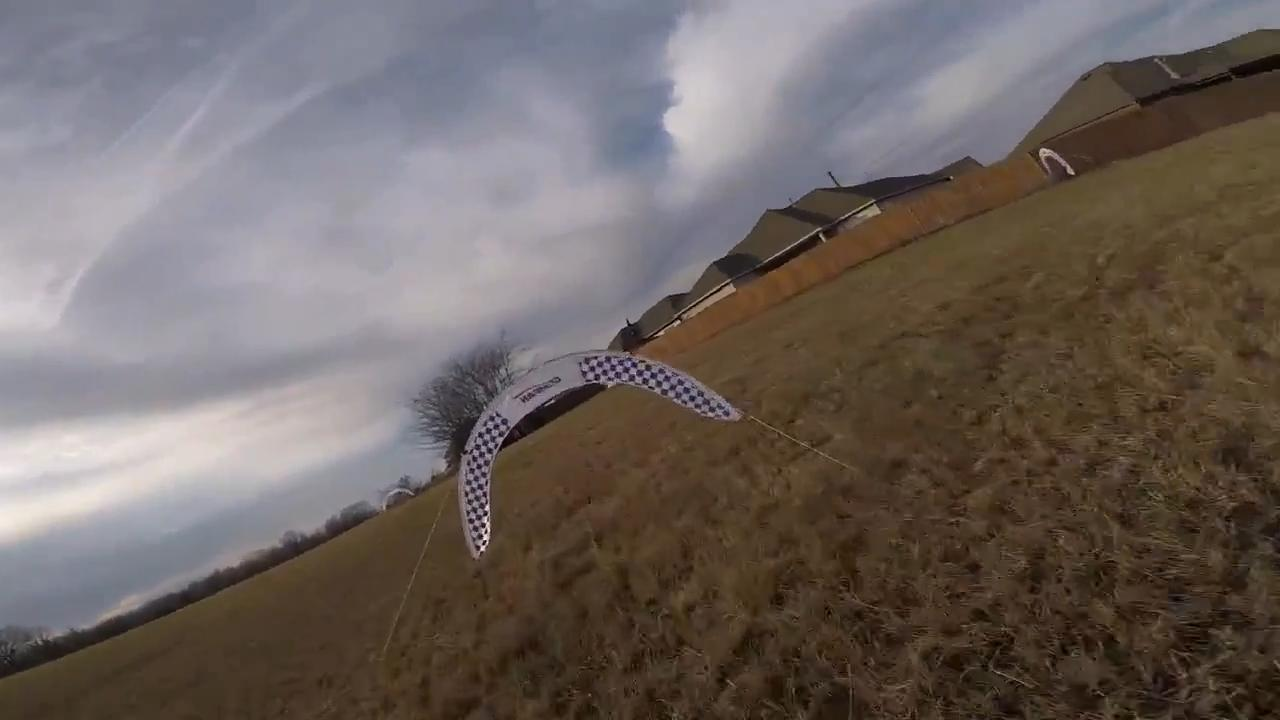gate: (455, 350, 748, 564)
